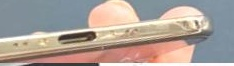scratch: (0, 0, 234, 66), (0, 0, 24, 66)
